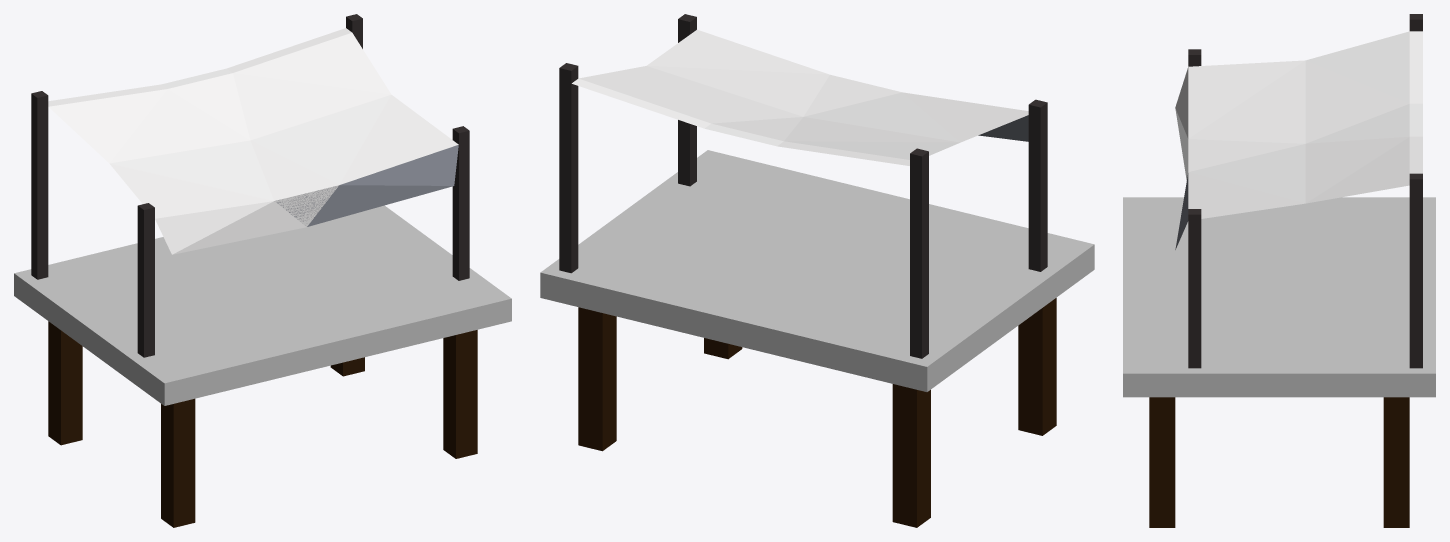
File: market_stall_8.obj
3 views of the same model, side by side, from view 1: azimuth 30°, elevation 25°; view 2: azimuth 150°, elevation 25°; view 3: azimuth 270°, elevation 25° (orthographic). The views are drawn at different scales.
Visible parts, largest first — view 1: 1421; view 2: 1421; view 3: 1421.
Part boxes in pixels (x1=…): 1421: x1=14, y1=14, x2=511, y2=527; 1421: x1=540, y1=14, x2=1094, y2=527; 1421: x1=1123, y1=14, x2=1435, y2=527.
Size of the model in its own units: 256 by 240 by 192.
